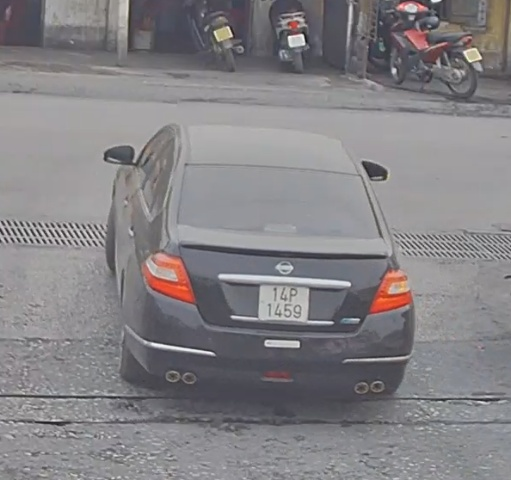vehicle plate: (258, 274, 307, 322)
